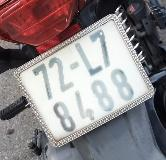2: (46, 53, 78, 96)
4: (69, 85, 100, 126)
7: (85, 25, 120, 70), (27, 60, 61, 103)
8: (87, 75, 120, 116), (107, 64, 139, 105), (49, 97, 80, 135)
L: (69, 35, 106, 80)
